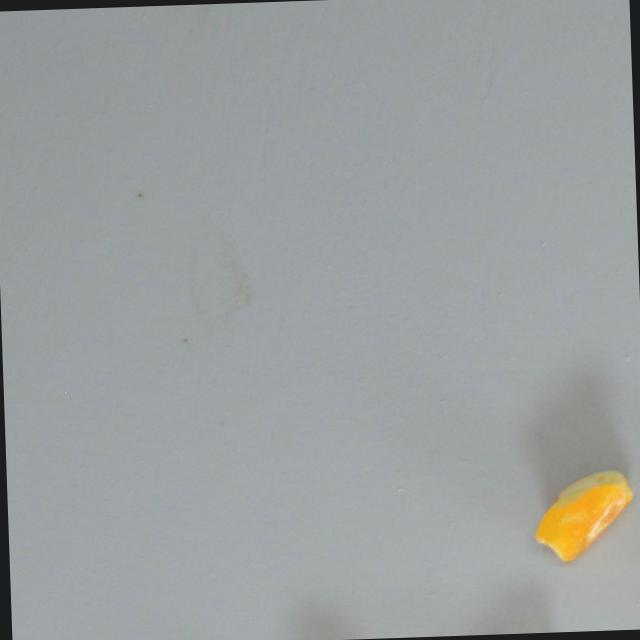dañado: (528, 465, 637, 563)
